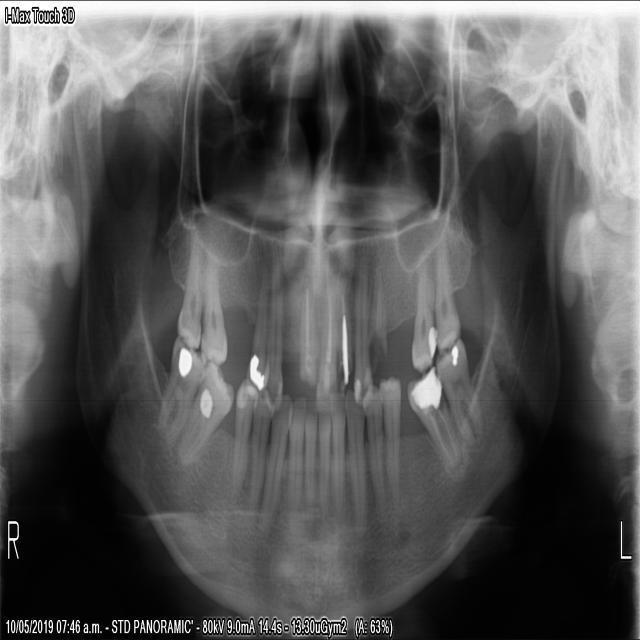LCD: (345, 399, 367, 538)
LCU: (351, 258, 375, 407)
LID: (330, 397, 347, 516), (316, 402, 331, 521)
LIU: (316, 265, 339, 405), (338, 276, 353, 390)
LMD: (435, 338, 486, 458), (407, 362, 463, 468)
LMU: (410, 254, 437, 371), (434, 251, 462, 360)
LPMD: (364, 387, 386, 519), (381, 379, 401, 504)
LPMU: (371, 269, 388, 360)
RCD: (258, 390, 291, 530)
RCU: (267, 255, 284, 402)
RID: (287, 391, 303, 512), (302, 402, 317, 513)
RIU: (299, 254, 319, 391)
RMD: (174, 357, 236, 468), (152, 330, 206, 452)
RMU: (200, 241, 228, 363), (175, 229, 201, 351), (248, 249, 269, 394)
RPMD: (230, 377, 258, 502), (245, 390, 269, 510)
